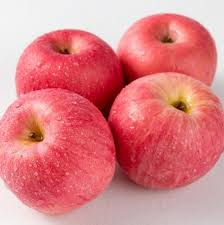apel: (1, 88, 117, 217), (109, 73, 224, 186), (13, 30, 126, 120), (117, 12, 222, 93)
